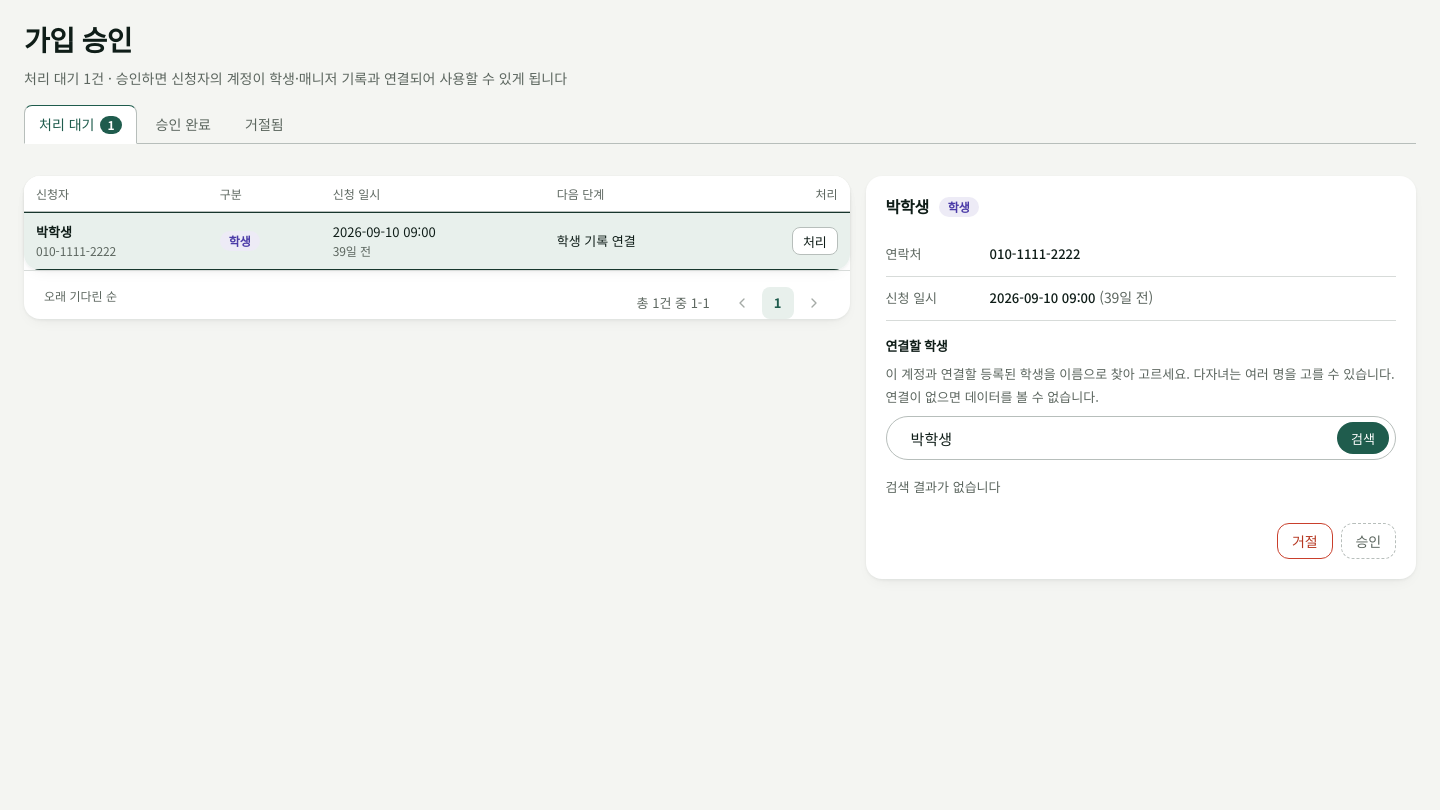
Scenario: SignupApprovalPage — 목록 + 승인/거절 › 학생을 하나도 고르지 않으면 승인 확정이 비활성이다
Click the button "처리" at (815, 241), box [792,227,838,255]
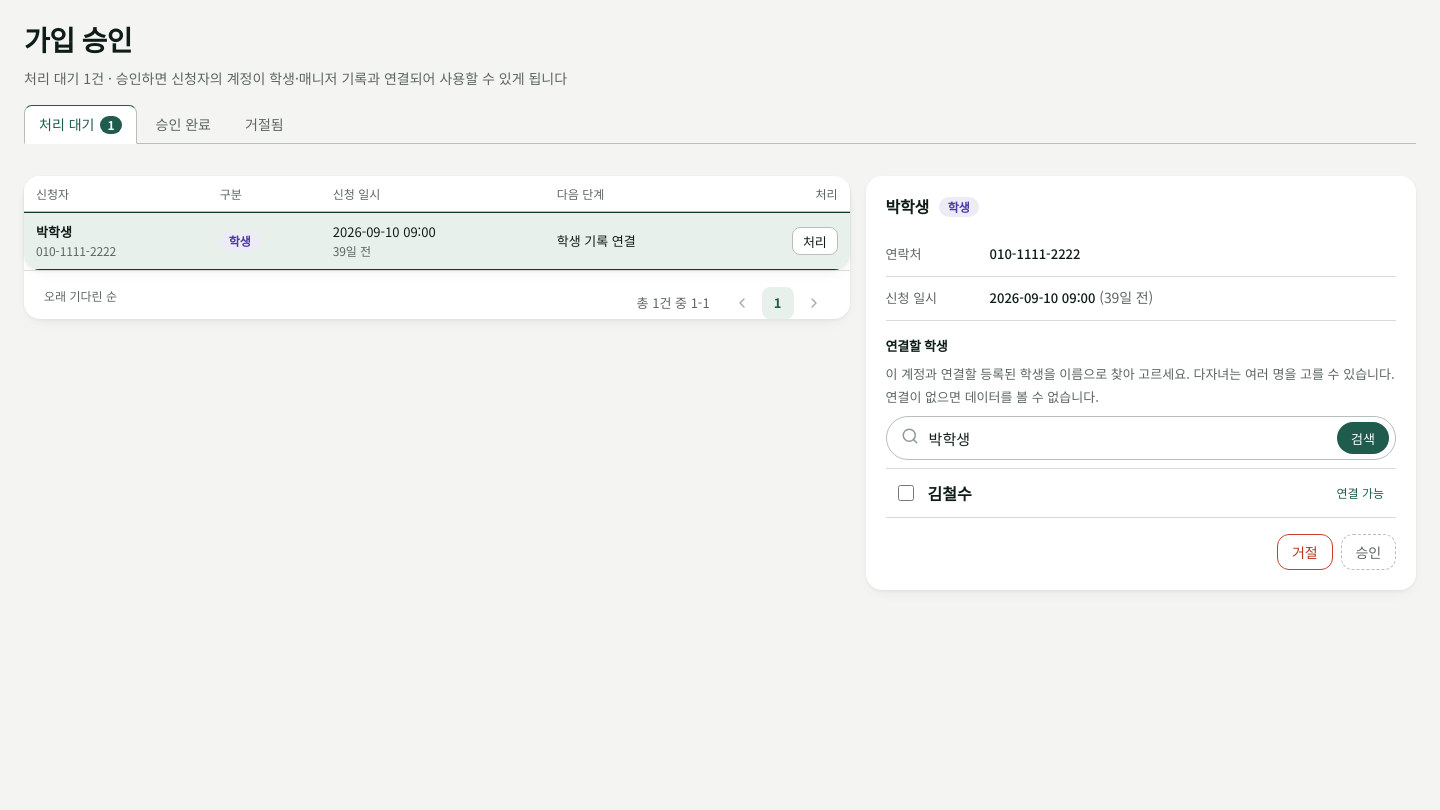
Check: the button "승인" is disabled, box [1340,534,1396,570]
Check: the checkbox labelled "김철수 연결 가능" is shown, box [898,485,914,501]
